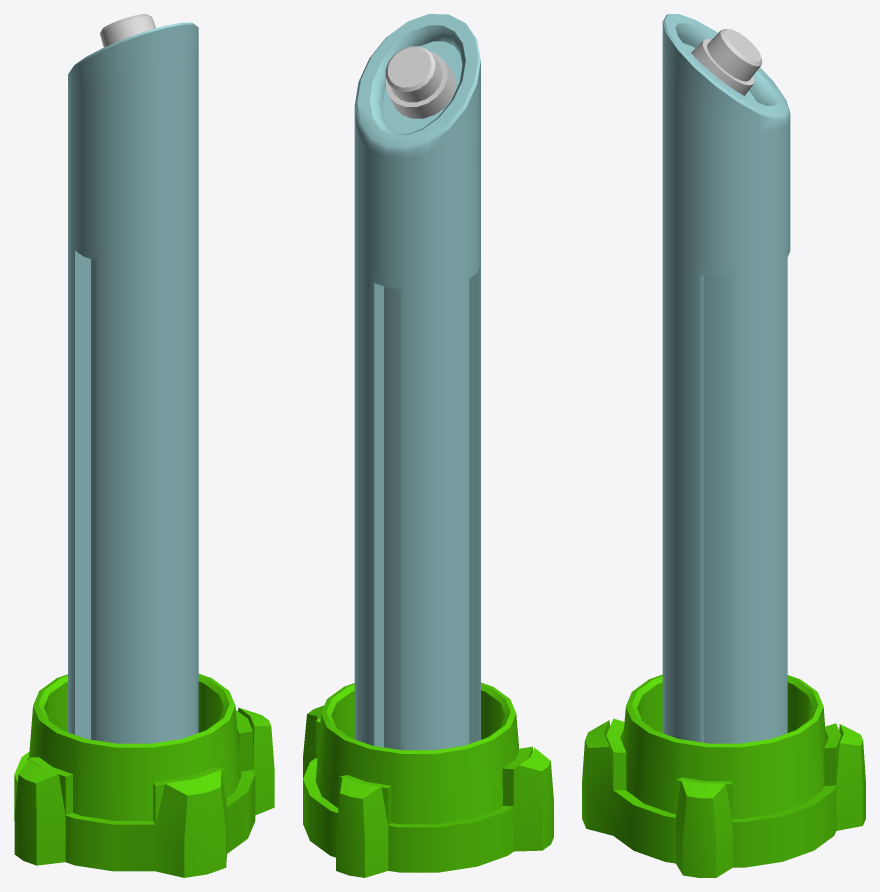
The model's file is bottooon.fbx.
The picture shows the model from 3 angles, left to right: view 1: azimuth 30°, elevation 25°; view 2: azimuth 150°, elevation 25°; view 3: azimuth 270°, elevation 25°; orthographic projection. The views are drawn at different scales.
Visible parts, largest first — view 1: BUTTTOOON, ButtooonButtooon; view 2: BUTTTOOON, ButtooonButtooon; view 3: BUTTTOOON, ButtooonButtooon.
Boxes of the visible parts, bbox=[...] form: BUTTTOOON: bbox=[14, 22, 274, 877]; ButtooonButtooon: bbox=[100, 14, 155, 47]; BUTTTOOON: bbox=[303, 14, 553, 877]; ButtooonButtooon: bbox=[385, 46, 455, 118]; BUTTTOOON: bbox=[582, 14, 865, 877]; ButtooonButtooon: bbox=[691, 29, 762, 95].
Bounding box in the file's own units: 21.9 × 68.93 × 22.21.
